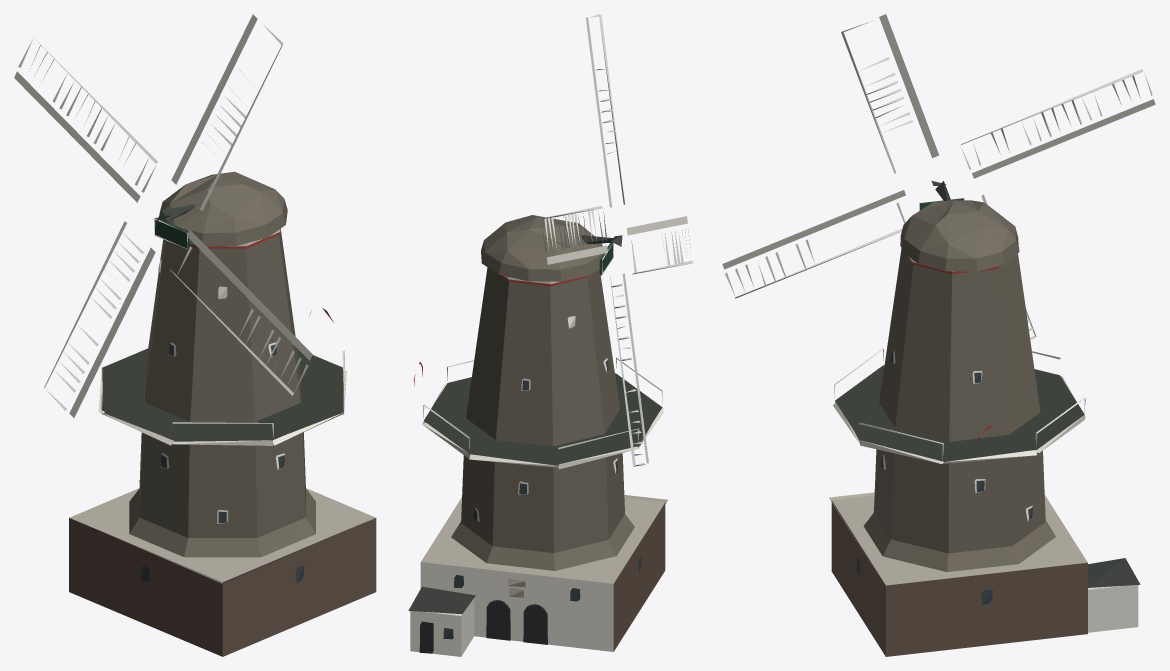
Rendered from de-bloem.lod1.glb.
The picture shows the model from 3 angles, left to right: view 1: azimuth 30°, elevation 25°; view 2: azimuth 150°, elevation 25°; view 3: azimuth 270°, elevation 25°; orthographic projection. The views are drawn at different scales.
Parts seen in each view (by area): view 1: de-bloem; view 2: de-bloem; view 3: de-bloem.
Part boxes in pixels (box(x1,y1,x2,y2)): de-bloem: box(14, 14, 376, 656); de-bloem: box(408, 14, 693, 656); de-bloem: box(722, 14, 1155, 656).
Bounding box in the file's own units: 16.62 × 36.86 × 24.76.
